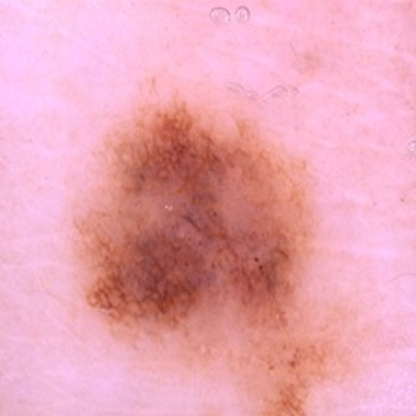benign: (82, 106, 311, 330)
